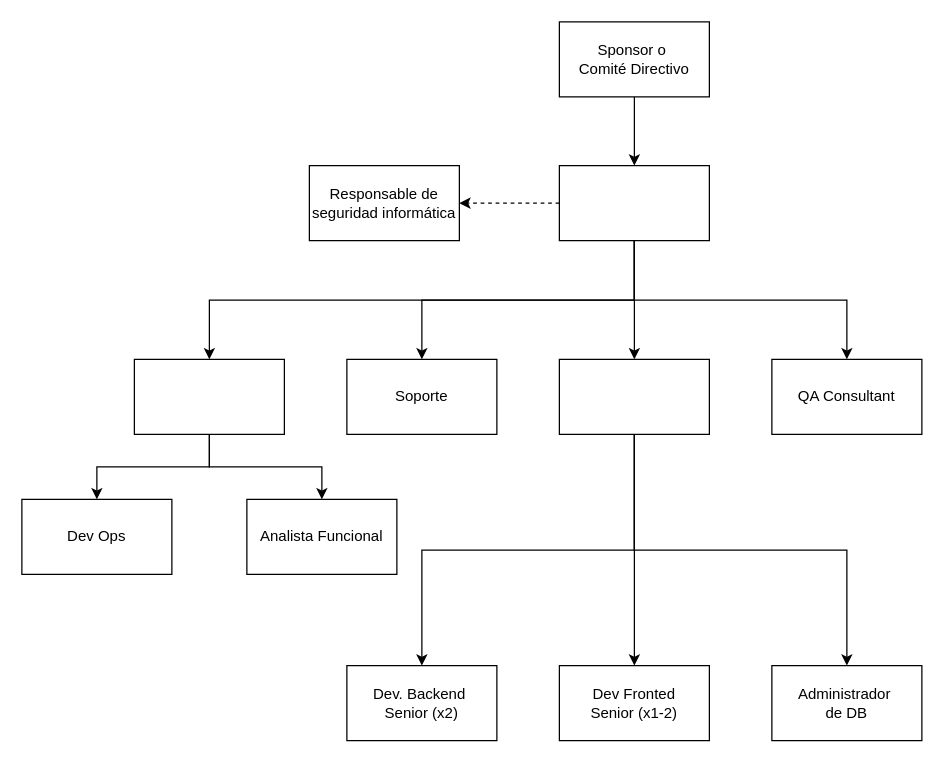
Some shapes in this 944 by 763 pixel diagram are drawn without their labels. Here are the shapes that lost their labels. From the top down, the centre of each, then its label:
the point at 633,202: Líder del proyecto
the point at 208,396: Product Owner
the point at 633,396: Arquitecto de SW
